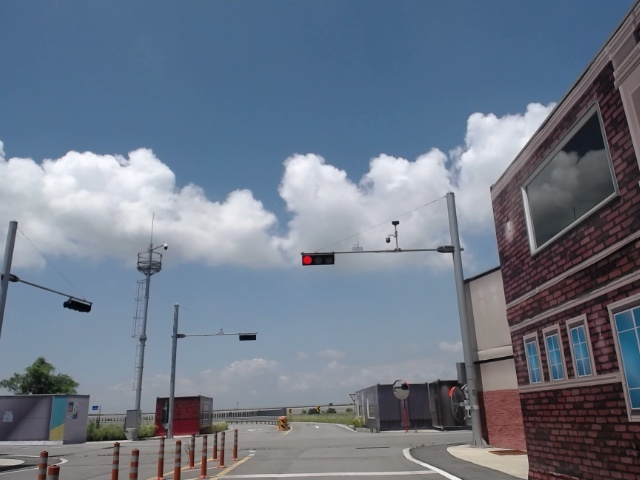red_3: (301, 251, 335, 266)
